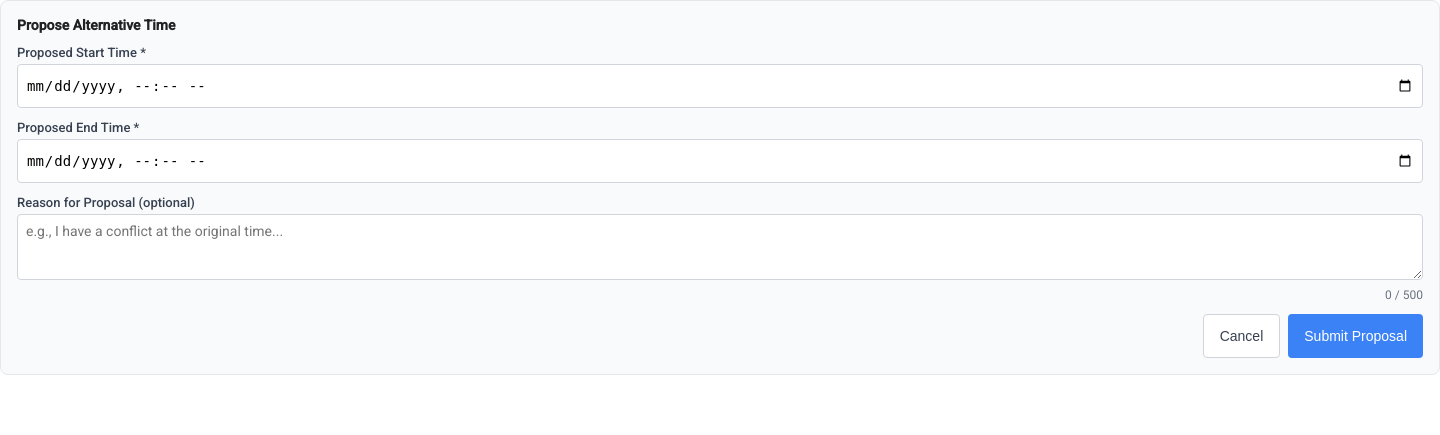
Test: TimeProposalForm › validates that end time is after start time
# Set end time before start time
Type "2025-10-26T14:00" into the field labelled "Proposed Start Time *".
click(720, 86); type("2025-10-26T14:00")  # box [17, 64, 1423, 108]
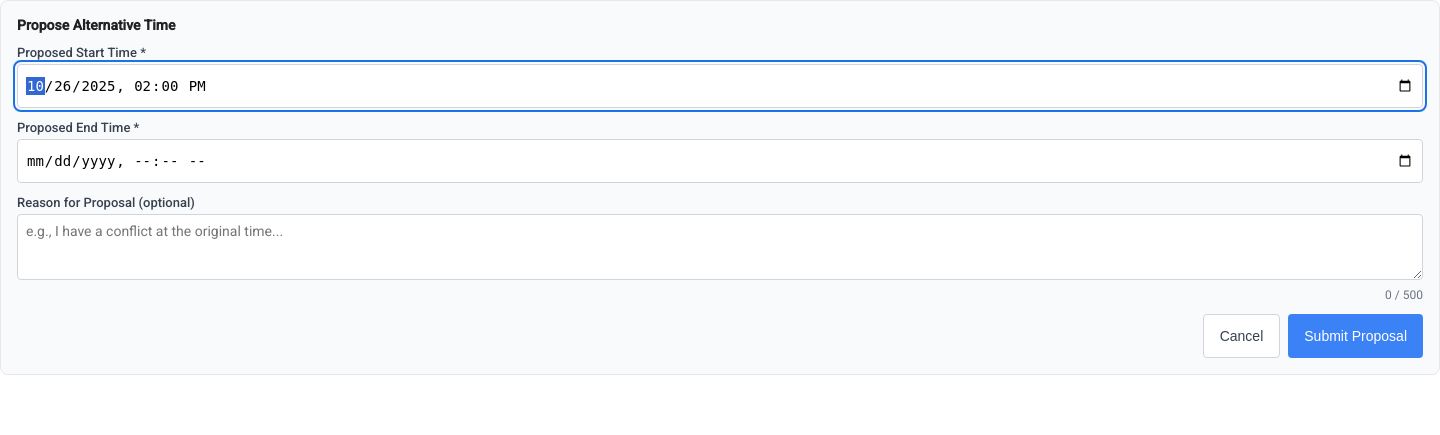
Type "2025-10-26T13:00" into the field labelled "Proposed End Time *".
click(720, 161); type("2025-10-26T13:00")  # box [17, 139, 1423, 183]
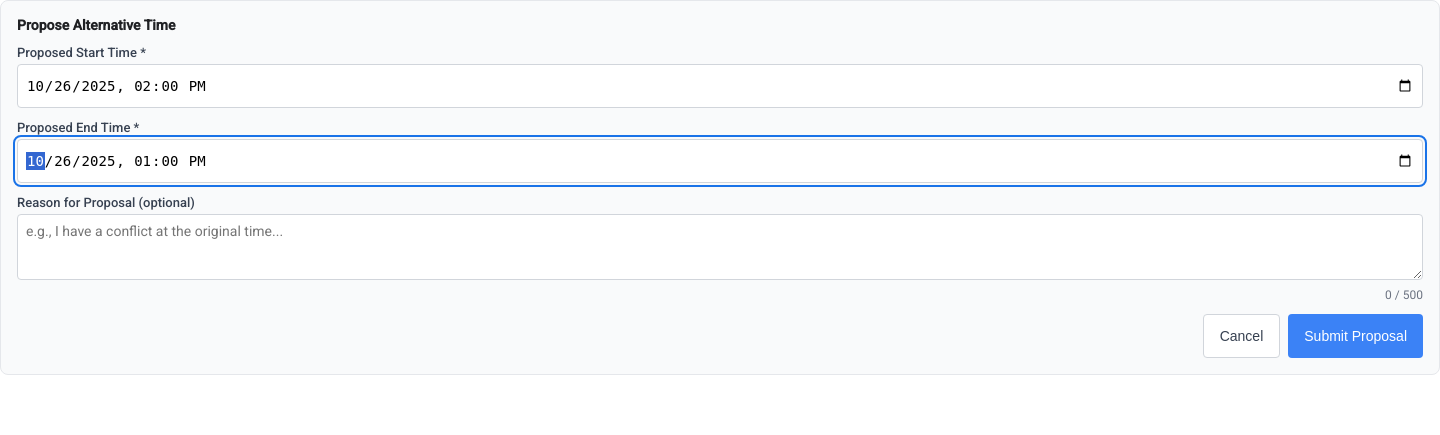
Click the button "Submit Proposal".
click(1356, 336)  # box [1288, 314, 1423, 358]
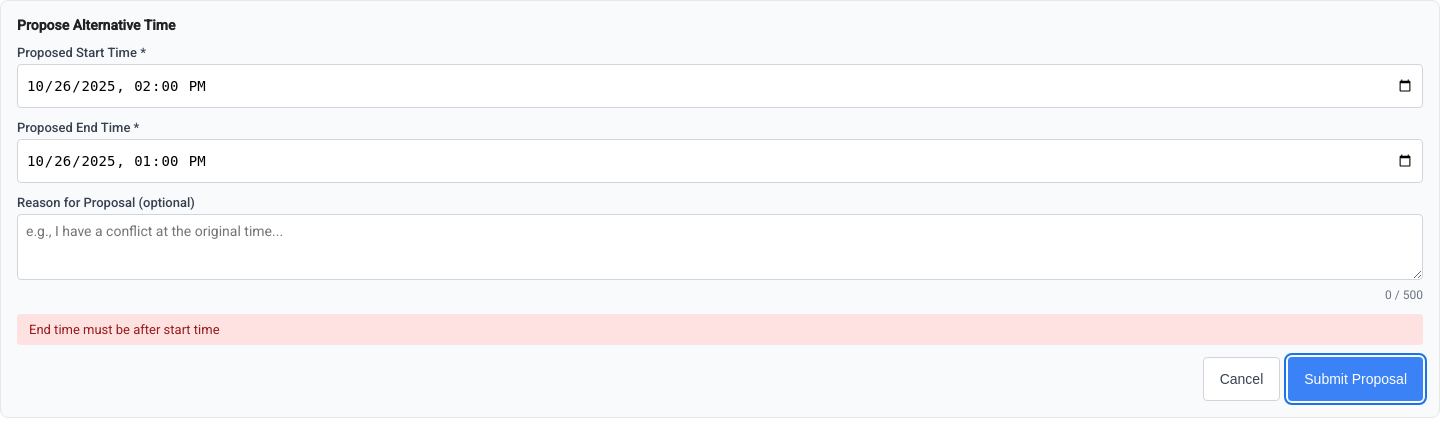
expect the text "End time must be after start time" is shown: met, box [17, 314, 1423, 345]
